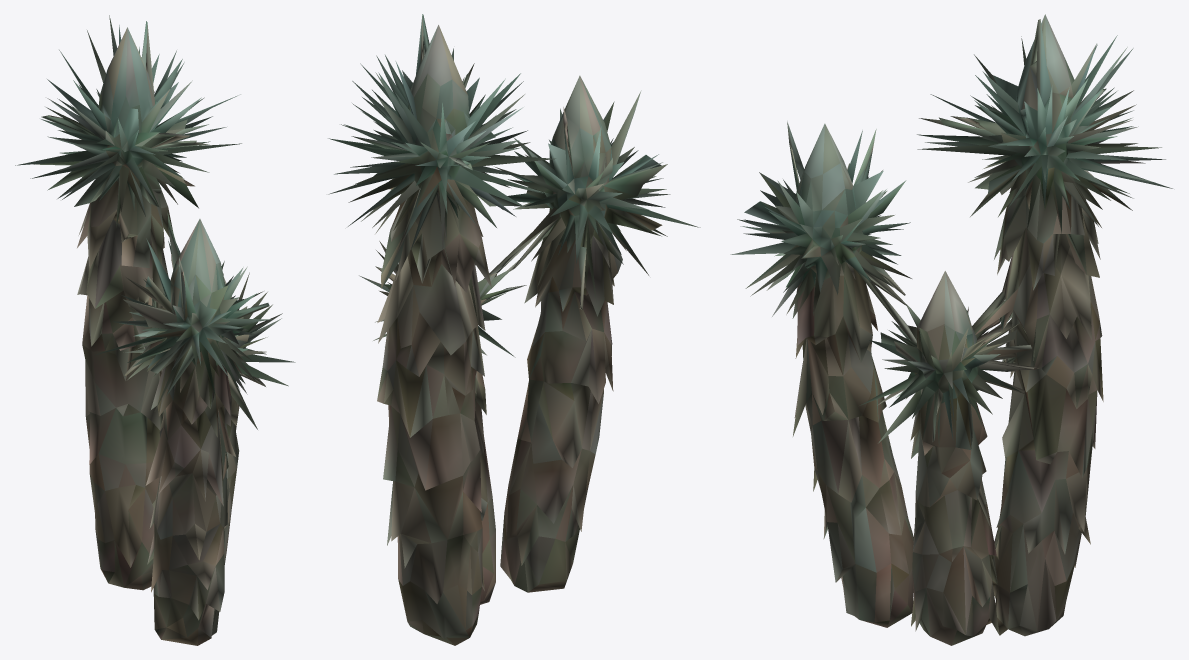
Rendered from yucca_cluster.glb.
3 renders of one model, left to right at view 1: azimuth 30°, elevation 25°; view 2: azimuth 150°, elevation 25°; view 3: azimuth 270°, elevation 25°, orthographic. The views are drawn at different scales.
Visible parts, largest first — view 1: LO.001; view 2: LO.001; view 3: LO.001.
Boxes of the visible parts, <box> form: LO.001: <box>15,15,295,645</box>; LO.001: <box>328,14,700,645</box>; LO.001: <box>730,14,1172,645</box>.
Size of the model in its own units: 1.31 by 2.79 by 1.82.
Materials: 1 (1 with a texture image).
